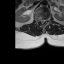CCS_normal: (41, 17, 43, 26)
LFS_stenosis: (45, 17, 47, 22)
LLS_normal: (43, 18, 45, 24)
RFS_stenosis: (38, 17, 39, 23)
RLS_normal: (39, 17, 41, 23)
